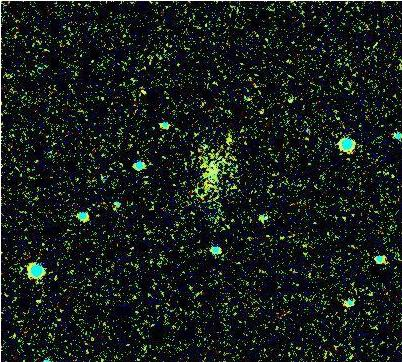star: (213, 125, 243, 155)
